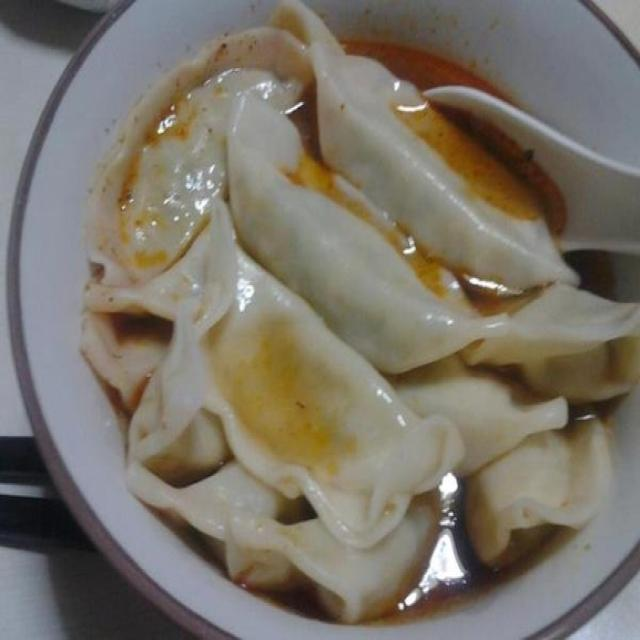带馅早点: (60, 42, 619, 594)
